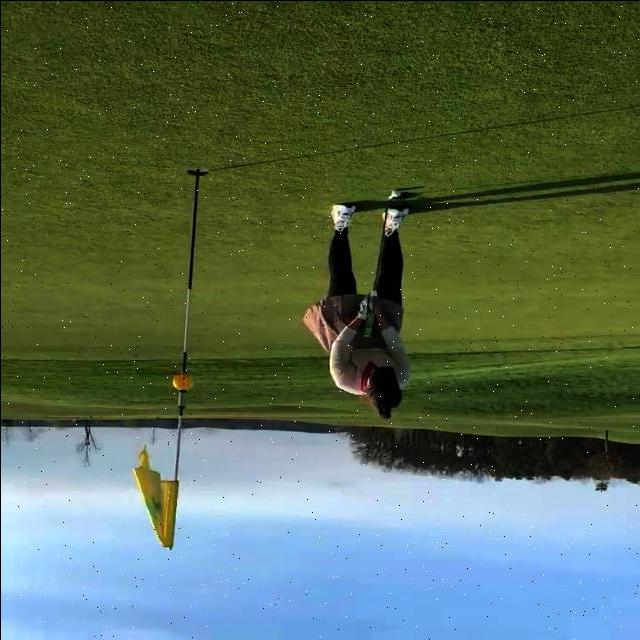ClubHandle: (362, 190, 413, 338)
ClubHead: (385, 194, 409, 201)
GolfBall: (389, 188, 402, 197)
